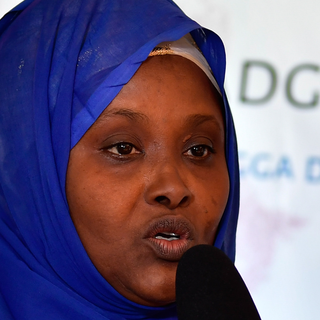eye: (100, 138, 144, 164), (177, 139, 215, 164)
